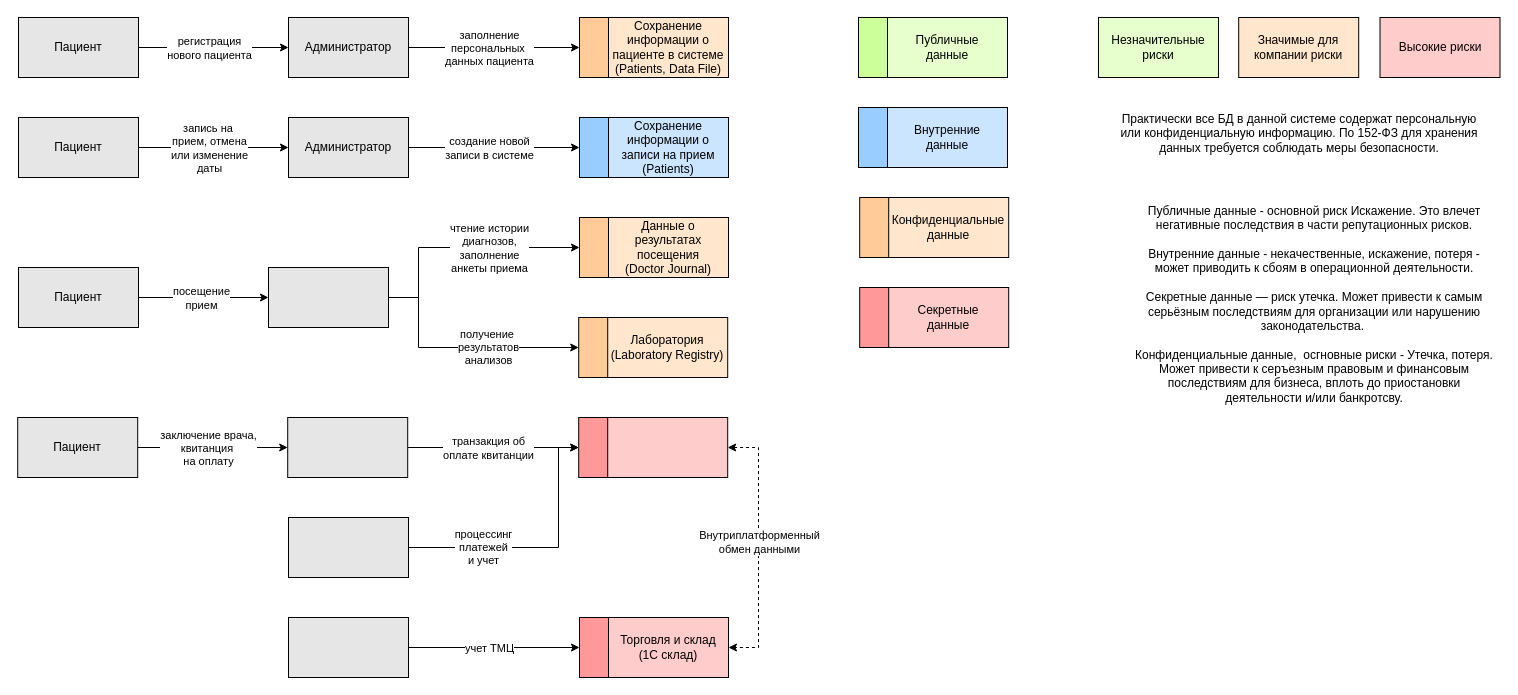
Some shapes in this 1518 by 695 pixel diagram are drawn without their labels. Each missing label, with the box of its shape:
Бухгалтер: (288, 516, 408, 578)
Бухгалтерия (1C бухгалтерия): (607, 416, 728, 478)
Доктор: (268, 266, 388, 328)
Кассир: (287, 416, 408, 478)
Сотру дник склада: (288, 616, 408, 678)
